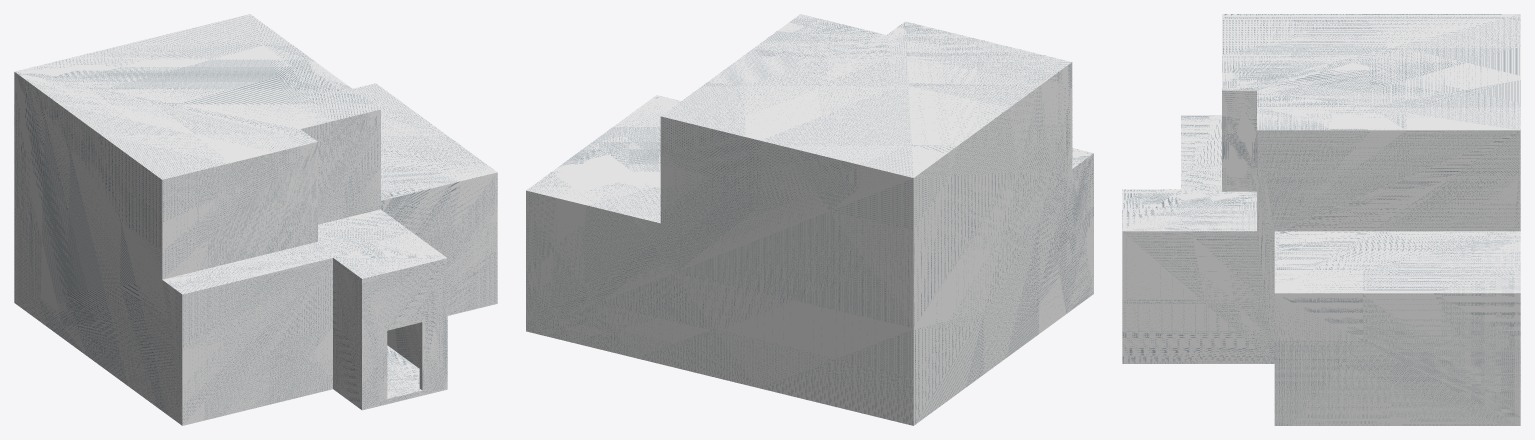
Rendered from house_01.fbx.
The picture shows the model from 3 angles, left to right: view 1: azimuth 30°, elevation 25°; view 2: azimuth 150°, elevation 25°; view 3: azimuth 270°, elevation 25°; orthographic projection. The views are drawn at different scales.
Parts seen in each view (by area): view 1: Model; view 2: Model; view 3: Model.
Part boxes in pixels (<box>): Model: <box>14,14,497,425</box>; Model: <box>526,14,1093,425</box>; Model: <box>1122,14,1520,425</box>.
Bounding box in the file's own units: 10.97 × 6.71 × 10.36.
